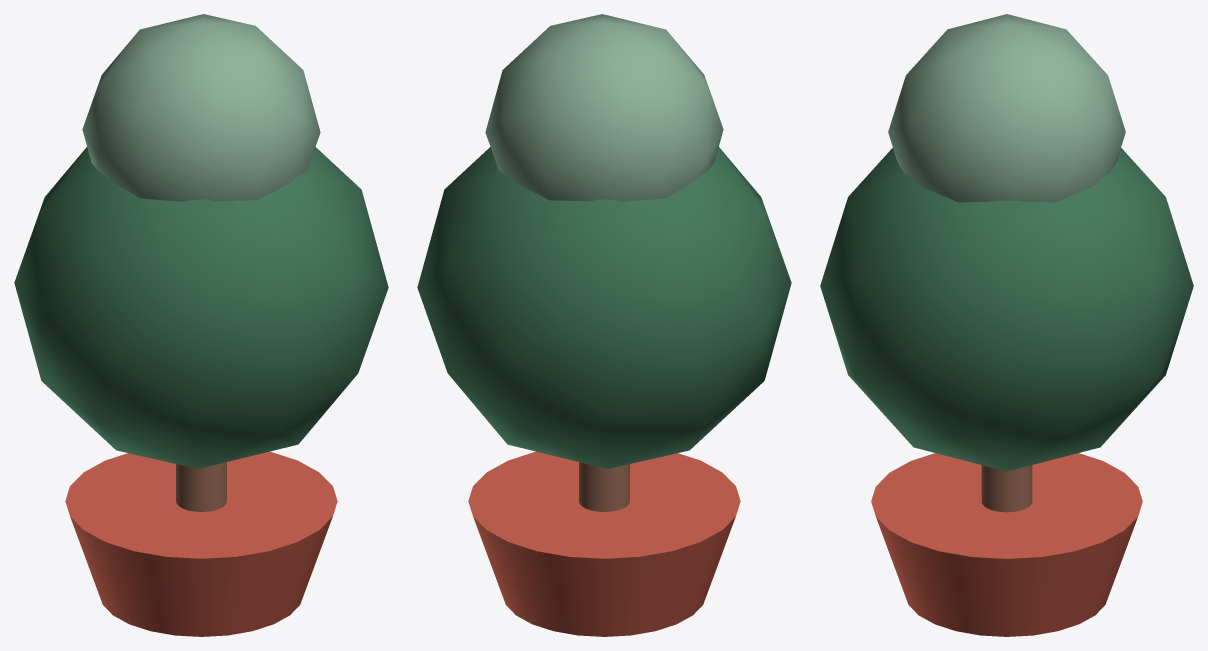
File: deco_topiary.glb
3 views of the same model, side by side, from view 1: azimuth 30°, elevation 25°; view 2: azimuth 150°, elevation 25°; view 3: azimuth 270°, elevation 25° (orthographic).
Parts seen in each view (by area): view 1: deco_topiary; view 2: deco_topiary; view 3: deco_topiary.
Part boxes in pixels (box(x1,y1,x2,y2)): deco_topiary: box(14, 14, 388, 636); deco_topiary: box(417, 14, 791, 636); deco_topiary: box(820, 14, 1193, 636).
Size of the model in its own units: 2.2 by 3.7 by 2.2.
